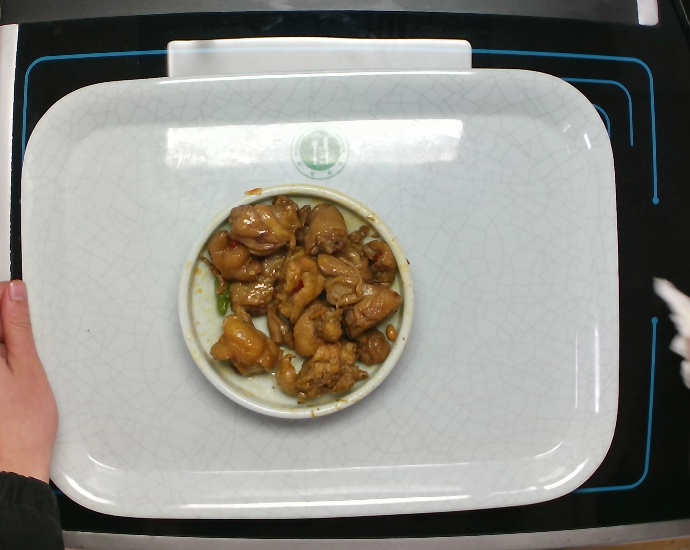JYsf-Xiao_Yuan_Pan: (173, 175, 417, 425)
